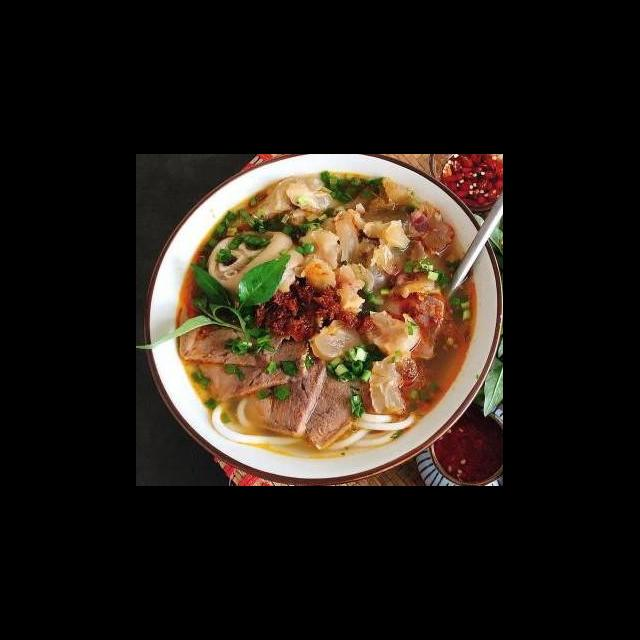bun: (208, 394, 308, 451), (320, 405, 420, 457)
bun bo: (150, 179, 484, 460)
thit bo: (197, 328, 316, 406), (235, 349, 332, 439), (174, 302, 296, 370), (300, 359, 378, 449)
